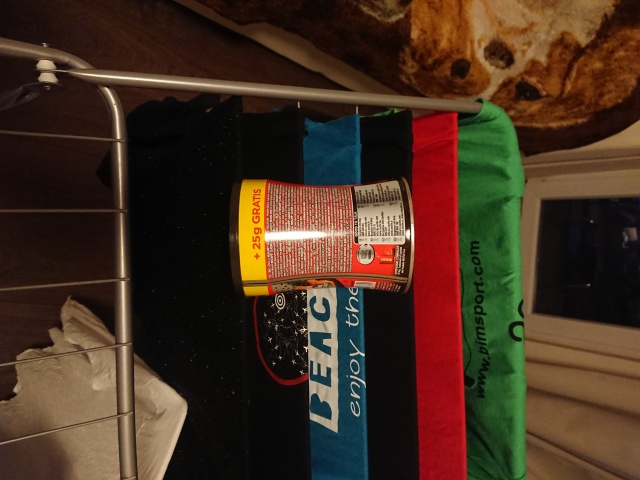Nescafe Classic 225g: (224, 172, 419, 302)
